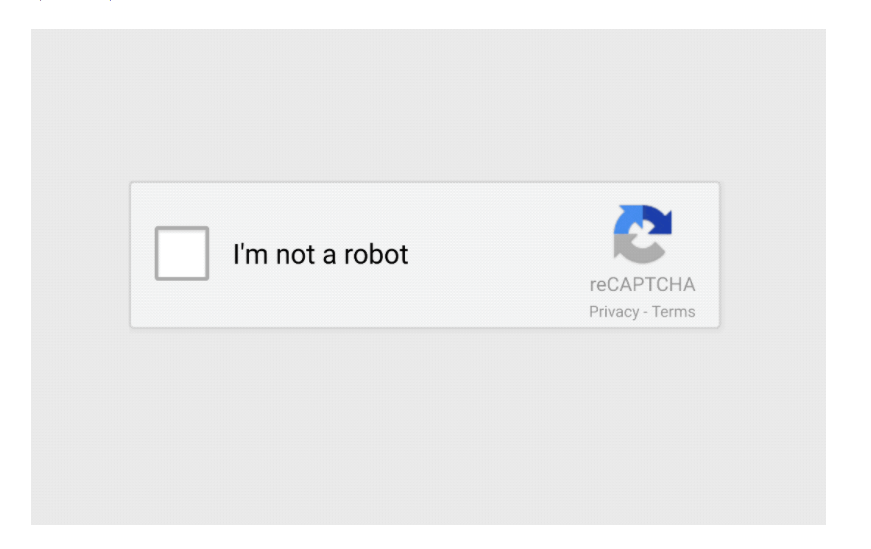captcha: (129, 180, 721, 328)
